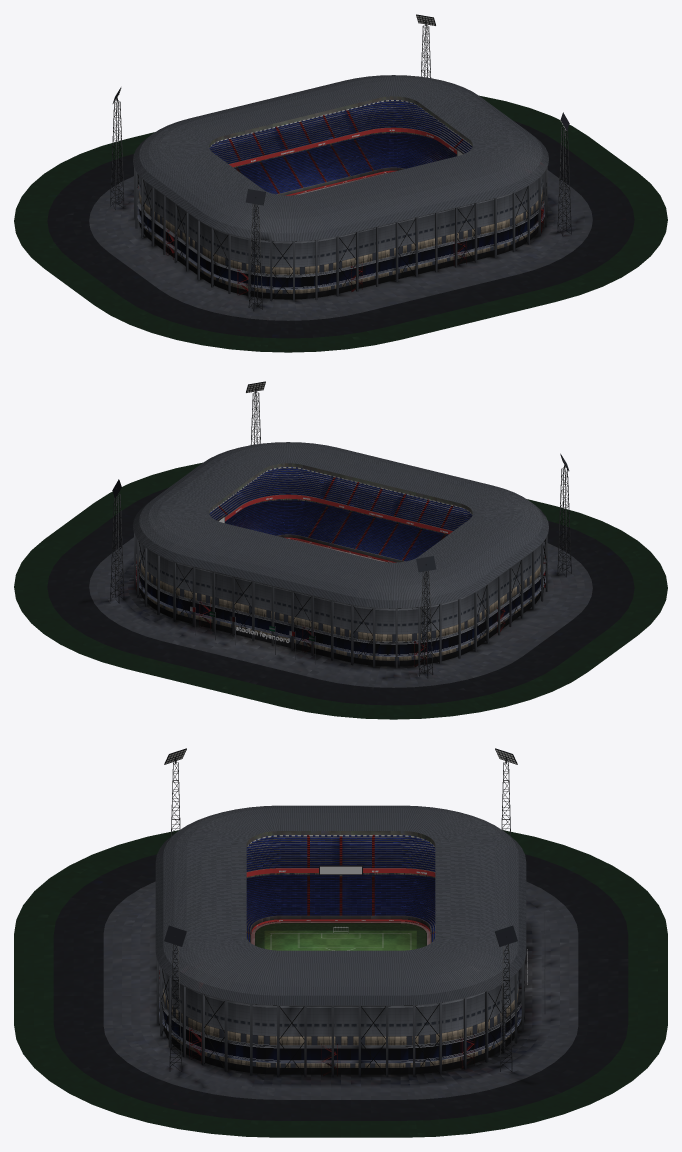
The model's file is de_kuip.glb.
3 renders of one model, top to bottom at view 1: azimuth 30°, elevation 25°; view 2: azimuth 150°, elevation 25°; view 3: azimuth 270°, elevation 25°, orthographic. The views are drawn at different scales.
Visible parts, largest first — view 1: DeKuip; view 2: DeKuip; view 3: DeKuip.
Part boxes in pixels (<box>): DeKuip: <box>14,14,667,352</box>; DeKuip: <box>14,381,667,719</box>; DeKuip: <box>14,748,667,1137</box>.
Size of the model in its own units: 301 by 62.13 by 263.
31 materials, 8 textured.
